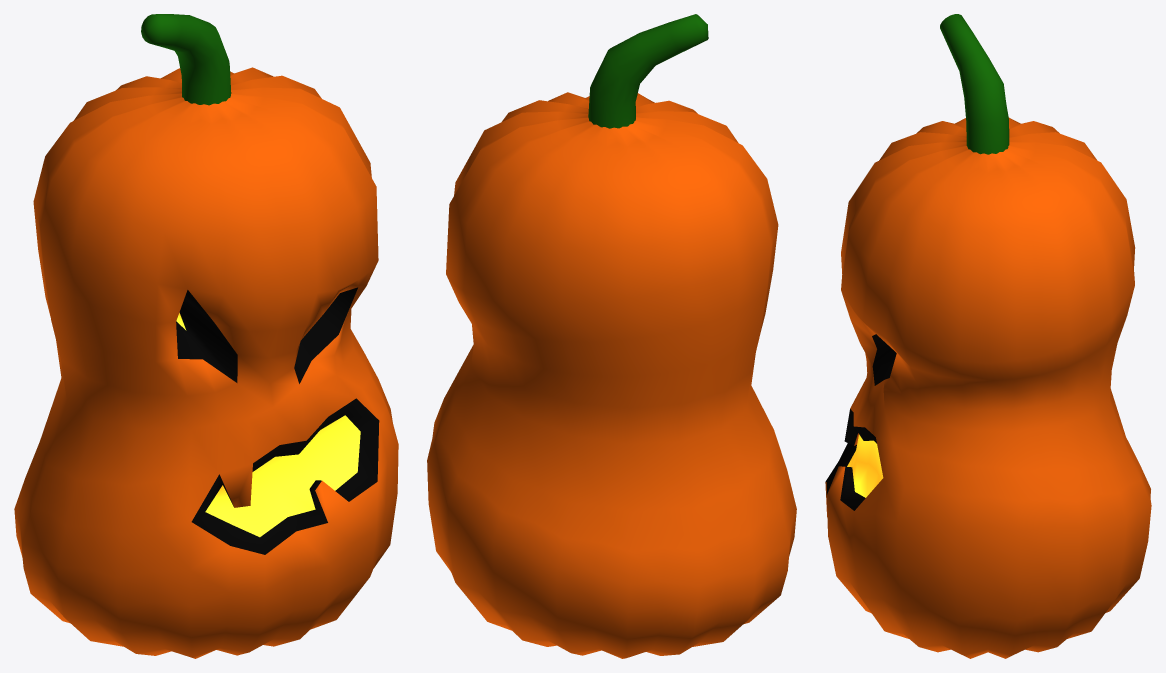
Rendered from LongPumpkin.fbx.
3 renders of one model, left to right at view 1: azimuth 30°, elevation 25°; view 2: azimuth 150°, elevation 25°; view 3: azimuth 270°, elevation 25°, orthographic. The views are drawn at different scales.
Visible parts, largest first — view 1: LongPumpkin; view 2: LongPumpkin; view 3: LongPumpkin.
Boxes of the visible parts, x1,y1,x2,y2 form: LongPumpkin: (14,14,398,658); LongPumpkin: (427,14,796,658); LongPumpkin: (825,14,1151,658).
Bounding box in the file's own units: 118 × 219 × 110.
